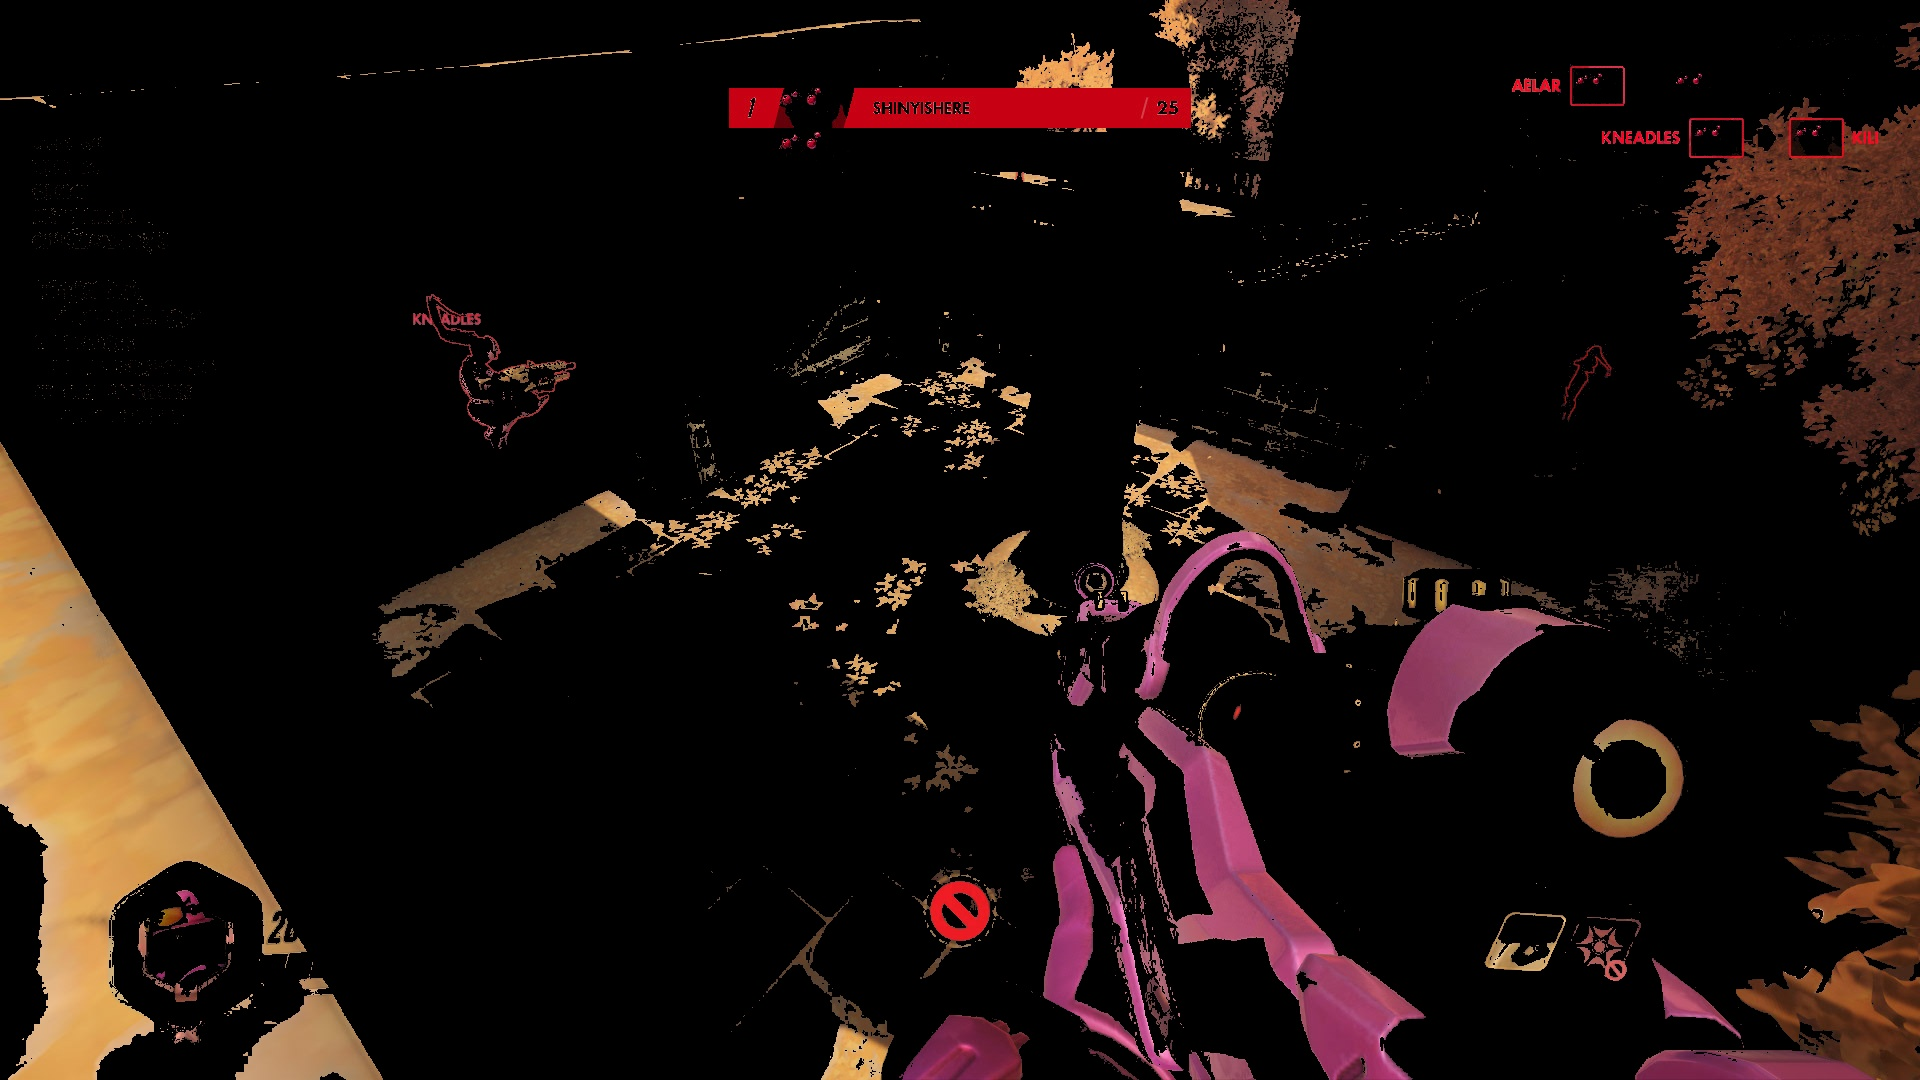widowmaker: (454, 328, 578, 454), (1561, 345, 1611, 422)
